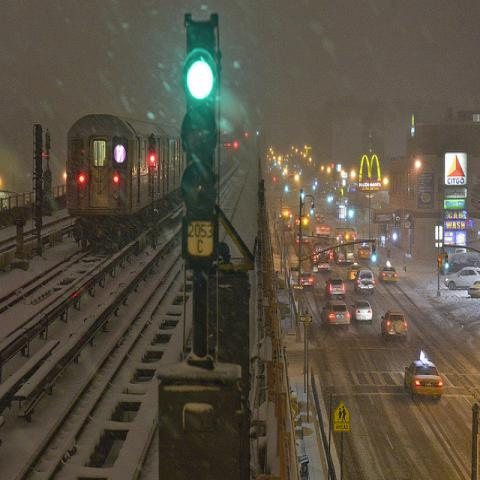car: (404, 350, 443, 404), (445, 266, 479, 292), (320, 300, 350, 328), (380, 310, 407, 340), (353, 266, 375, 294), (352, 299, 372, 324), (328, 277, 346, 300), (378, 266, 397, 282), (300, 271, 314, 288), (357, 246, 372, 260), (468, 281, 479, 298)
truck: (440, 251, 480, 276), (333, 225, 356, 264), (311, 240, 333, 272)
